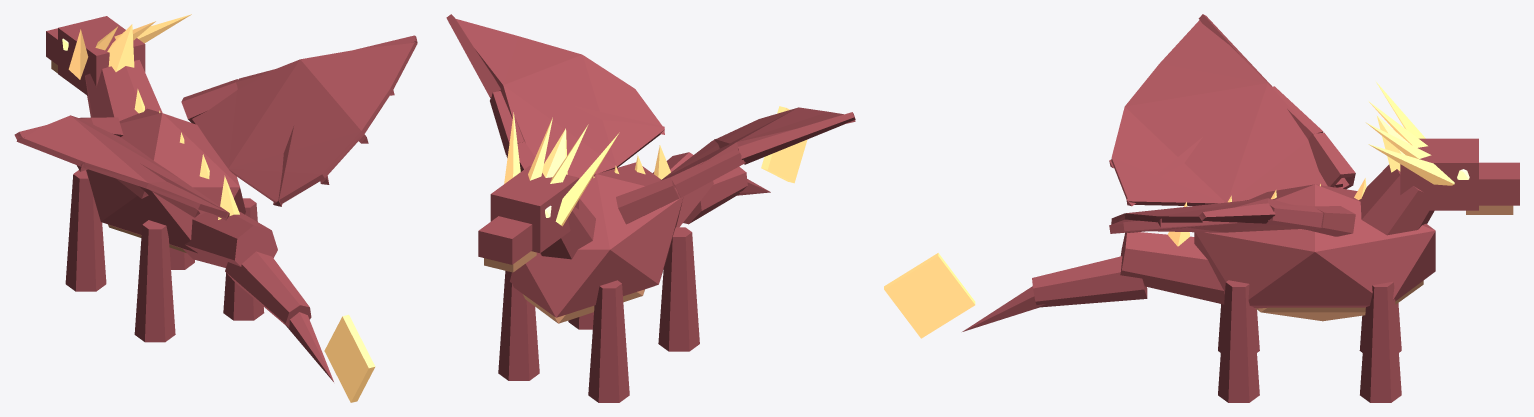
Rendered from dragon_elder.glb.
3 renders of one model, left to right at view 1: azimuth 30°, elevation 25°; view 2: azimuth 150°, elevation 25°; view 3: azimuth 270°, elevation 25°, orthographic. The views are drawn at different scales.
Visible parts, largest first — view 1: DragonBody; view 2: DragonBody; view 3: DragonBody.
Part boxes in pixels (x1,y1,x2,y2): DragonBody: [14, 14, 417, 402]; DragonBody: [446, 14, 855, 402]; DragonBody: [884, 14, 1519, 402].
Size of the model in its own units: 4.72 by 2.91 by 6.29.
